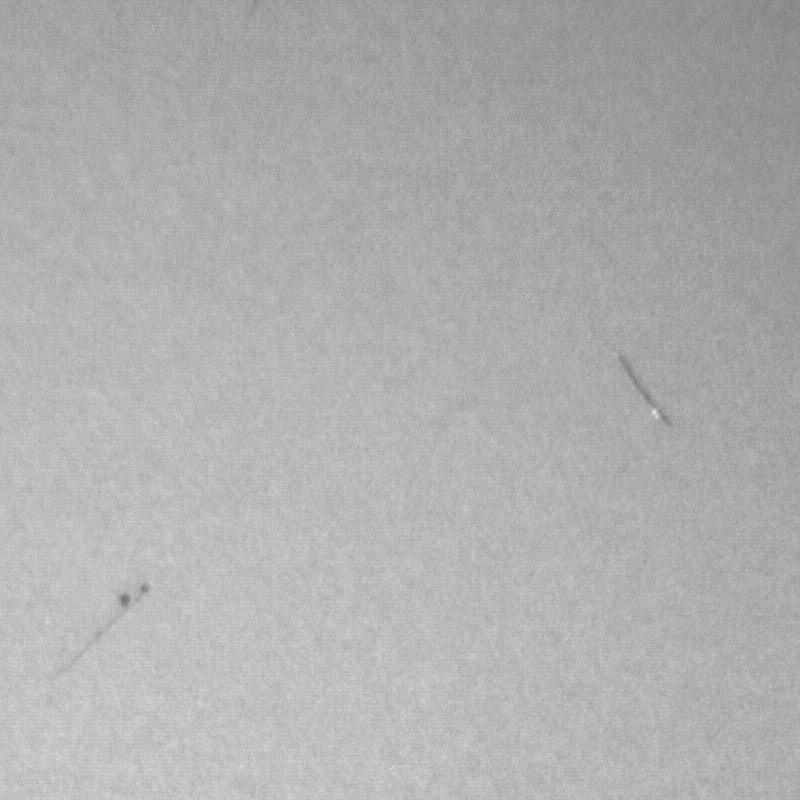defect: (55, 580, 149, 676), (615, 353, 675, 426)
